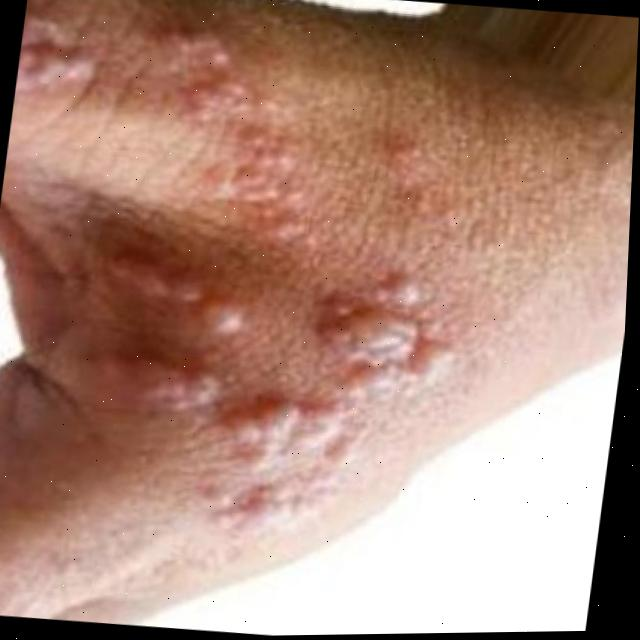Shingles: (202, 259, 474, 557), (130, 16, 334, 262), (95, 242, 264, 339), (78, 333, 235, 426), (13, 0, 105, 106)
